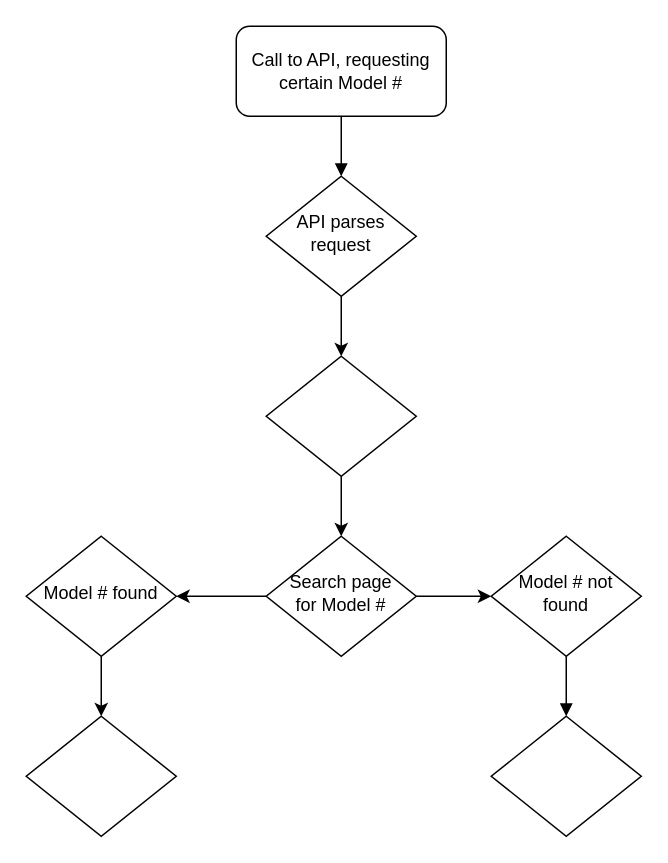
Some shapes in this 668 by 863 pixel diagram are drawn without their labels. Here are the shapes that lost their labels. From the top down, the centre of each, then its label:
At [340,415]: "Search for Product".
At [100,775]: "Return Item Price".
At [565,775]: "Return null".
